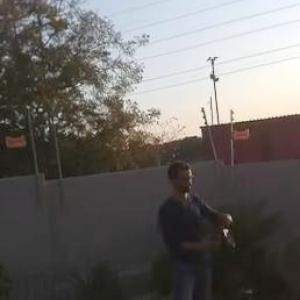follow: (146, 151, 246, 299)
